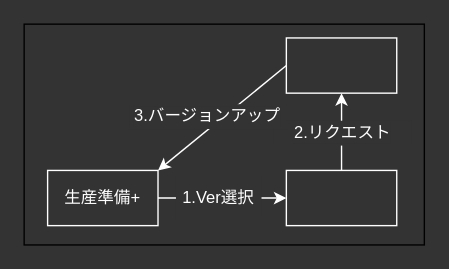
The diagram is 449 pixels wide and 269 high, and some of its shapes have lost their labels. Here are the shapes that lost their labels. From the top down, the box of each, then its label:
(285, 37, 397, 93): 生産準備+ サーバー
(285, 169, 397, 226): VerUp.xlsm
